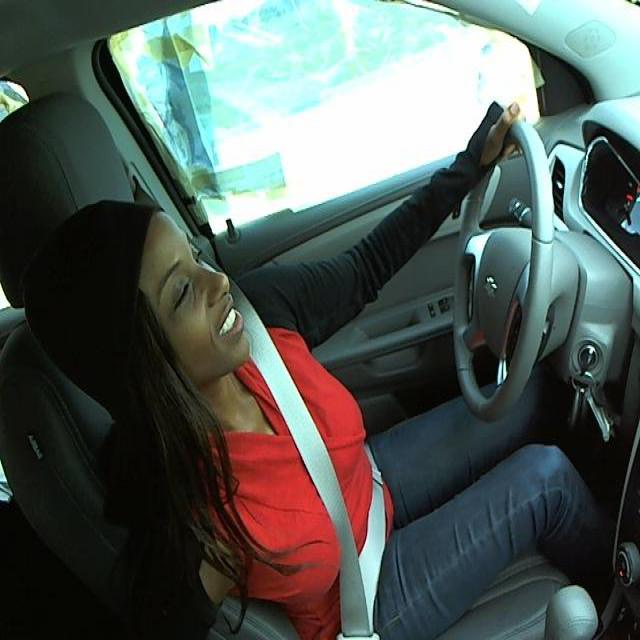seatbelt: (252, 347, 381, 633)
